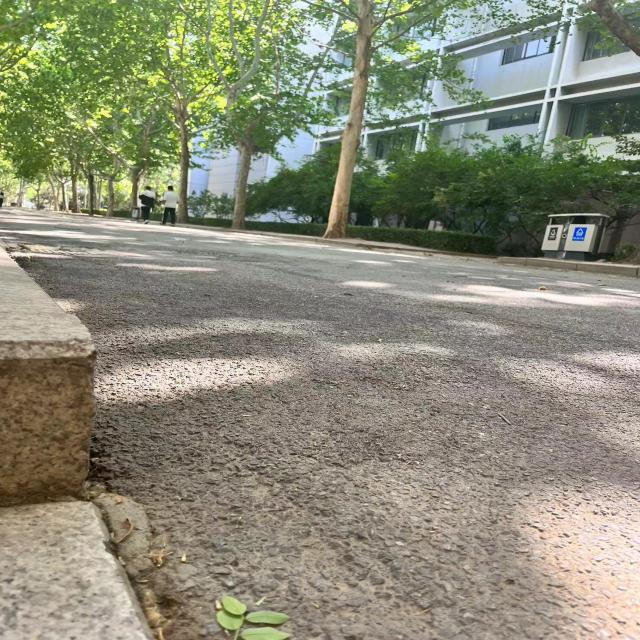curb: (1, 242, 106, 501)
